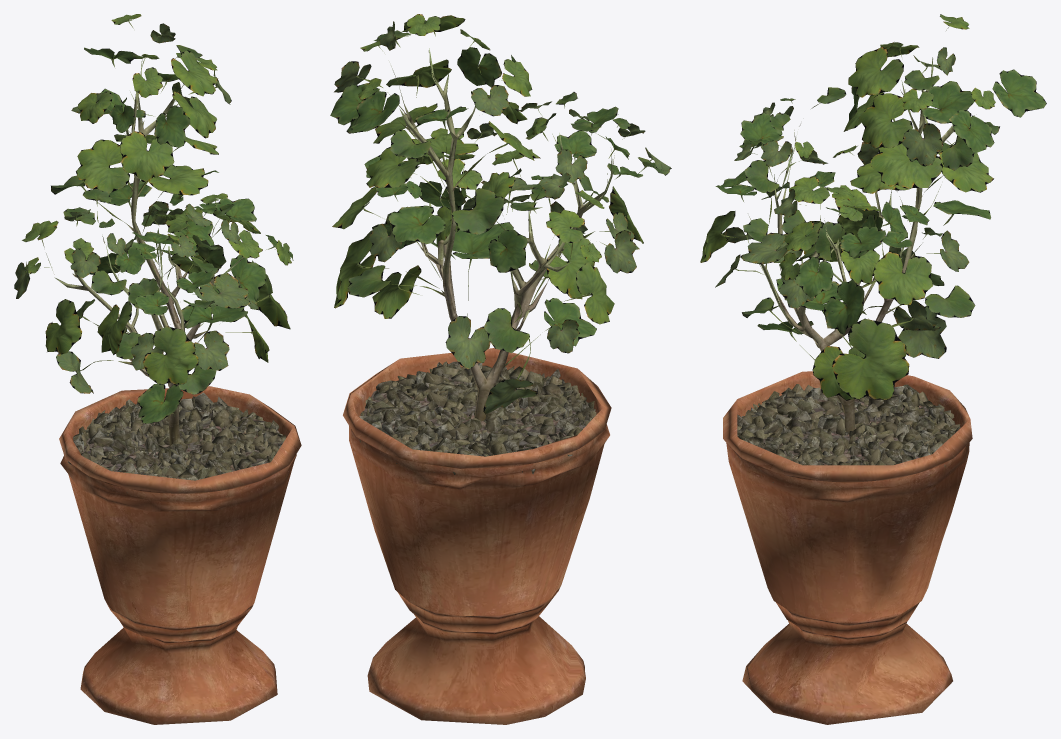
Rendered from plant.glb.
3 views of the same model, side by side, from view 1: azimuth 30°, elevation 25°; view 2: azimuth 150°, elevation 25°; view 3: azimuth 270°, elevation 25° (orthographic). The views are drawn at different scales.
Visible parts, largest first — view 1: potted_plant_01_pot, potted_plant_01_leaves, potted_plant_01_pebbles, potted_plant_01_stem; view 2: potted_plant_01_pot, potted_plant_01_leaves, potted_plant_01_pebbles, potted_plant_01_stem; view 3: potted_plant_01_pot, potted_plant_01_leaves, potted_plant_01_pebbles, potted_plant_01_stem.
Boxes of the visible parts, left/top/right/bottom form: potted_plant_01_pot: left=59, top=386, right=301, bottom=724; potted_plant_01_leaves: left=14, top=14, right=293, bottom=423; potted_plant_01_pebbles: left=68, top=392, right=293, bottom=492; potted_plant_01_stem: left=54, top=57, right=244, bottom=445; potted_plant_01_pot: left=343, top=348, right=611, bottom=724; potted_plant_01_leaves: left=330, top=14, right=671, bottom=414; potted_plant_01_pebbles: left=359, top=361, right=596, bottom=474; potted_plant_01_stem: left=399, top=48, right=612, bottom=421; potted_plant_01_pot: left=723, top=371, right=972, bottom=724; potted_plant_01_leaves: left=700, top=14, right=1046, bottom=400; potted_plant_01_pebbles: left=737, top=384, right=966, bottom=482; potted_plant_01_stem: left=760, top=57, right=966, bottom=434.
Size of the model in its own units: 0.5866 by 1.33 by 0.6336.
2 materials, 2 textured.
